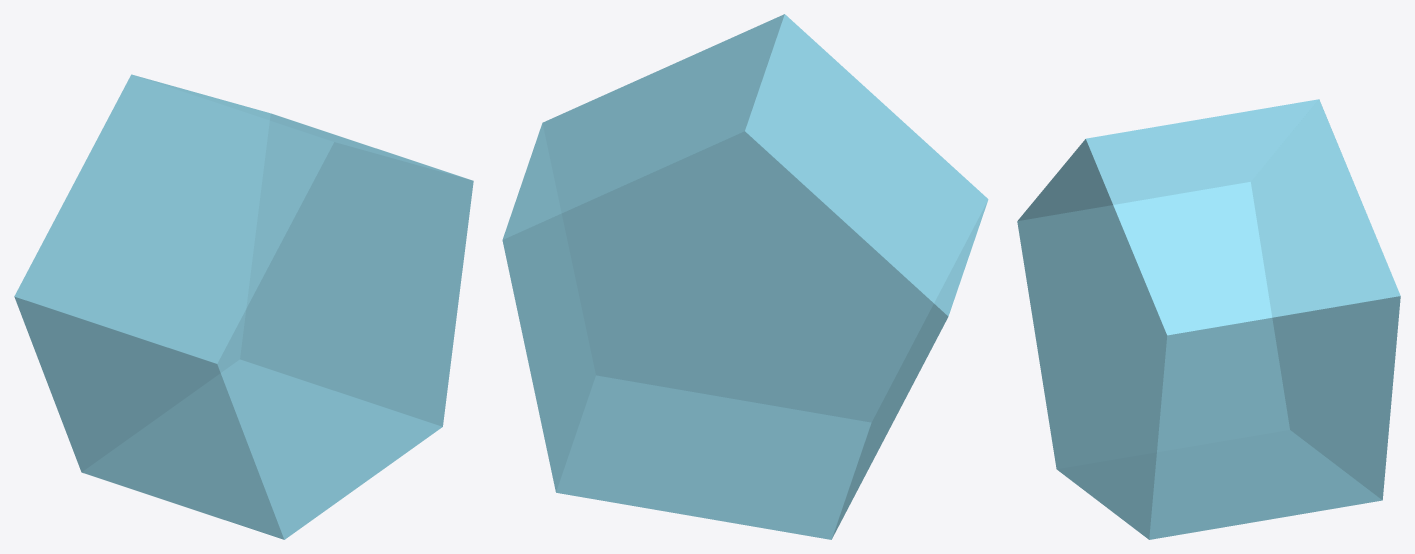
3 renders of one model, left to right at view 1: azimuth 30°, elevation 25°; view 2: azimuth 150°, elevation 25°; view 3: azimuth 270°, elevation 25°, orthographic. The views are drawn at different scales.
Parts seen in each view (by area): view 1: root, object 2; view 2: root, object 2; view 3: root, object 2.
Boxes of the visible parts, x1,y1,x2,y2 form: root: (14,74,473,539); object 2: (14,74,333,363); root: (502,14,987,539); object 2: (745,14,988,316); root: (1017,99,1400,539); object 2: (1018,100,1317,220).
Size of the model in its own units: 6.84 by 6.96 by 5.6.
